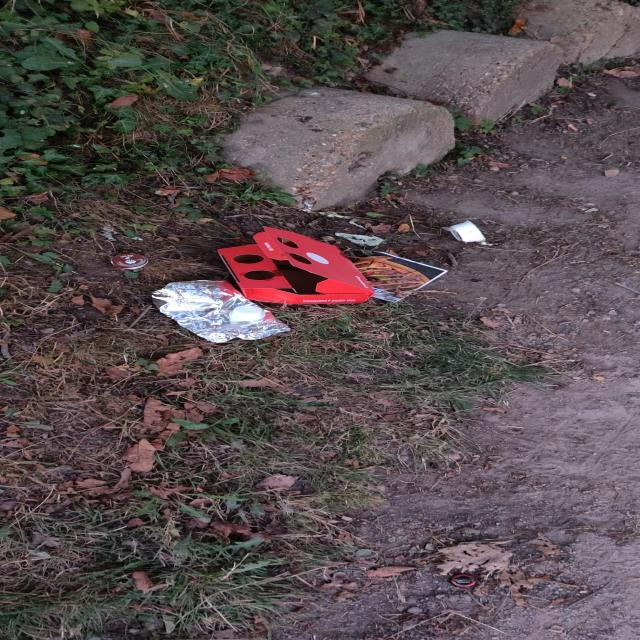litter: (219, 228, 376, 306), (148, 280, 294, 346), (354, 250, 452, 306), (445, 218, 491, 246), (106, 252, 148, 273)
